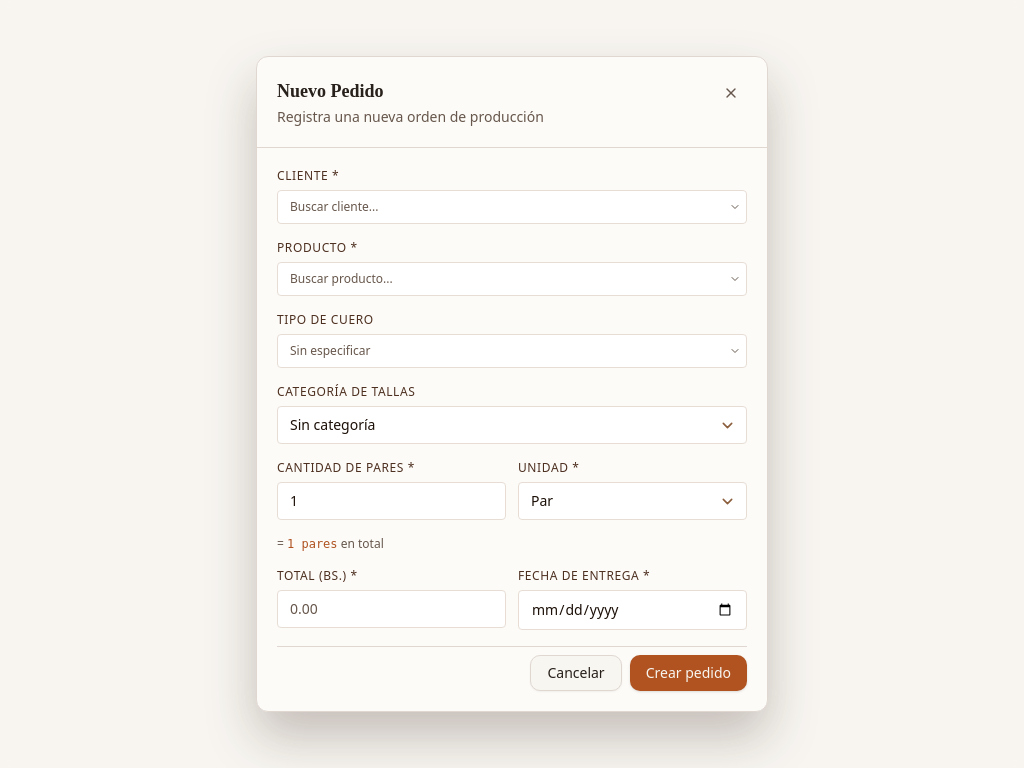
Test: PedidoModal — validación › exige cliente, producto, total y fecha antes de enviar
Click the button "Crear pedido" at (688, 673), box [630,655,747,691]
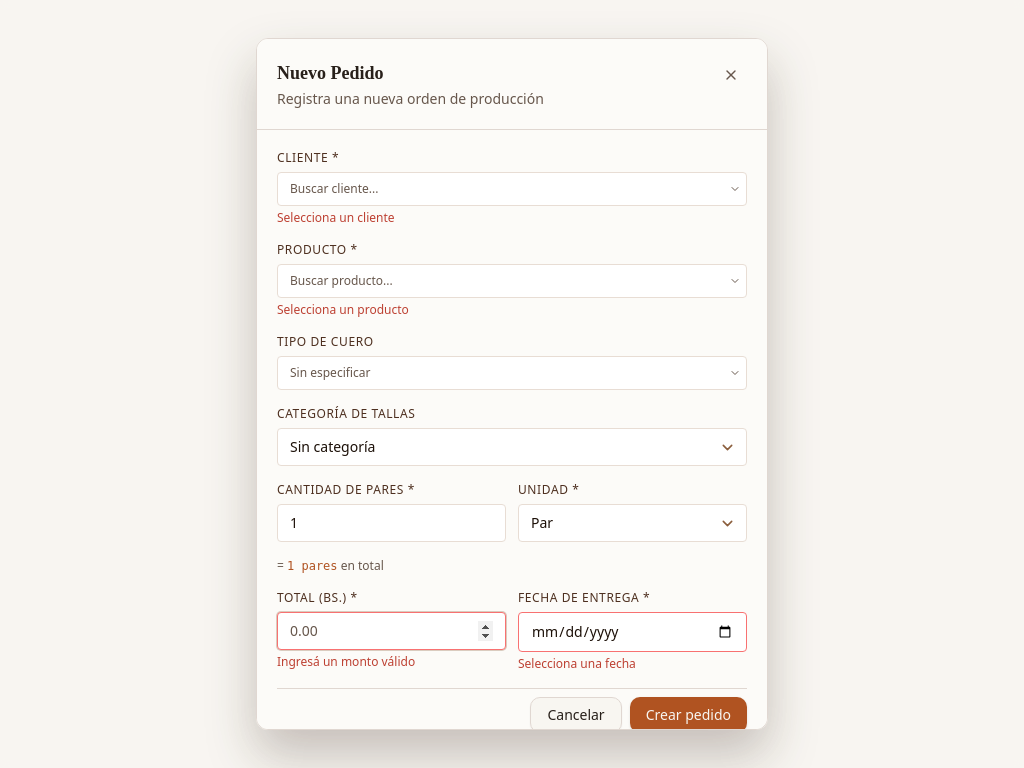
Now the text "Selecciona un cliente" is shown, box [277,209,395,226]
Now the text "Selecciona un producto" is shown, box [277,301,409,318]
Now the text "Selecciona una fecha" is shown, box [518,655,636,672]
